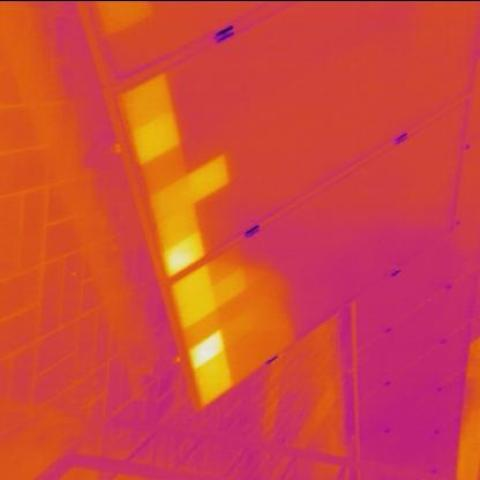fault: (191, 327, 226, 369), (160, 248, 200, 276)
